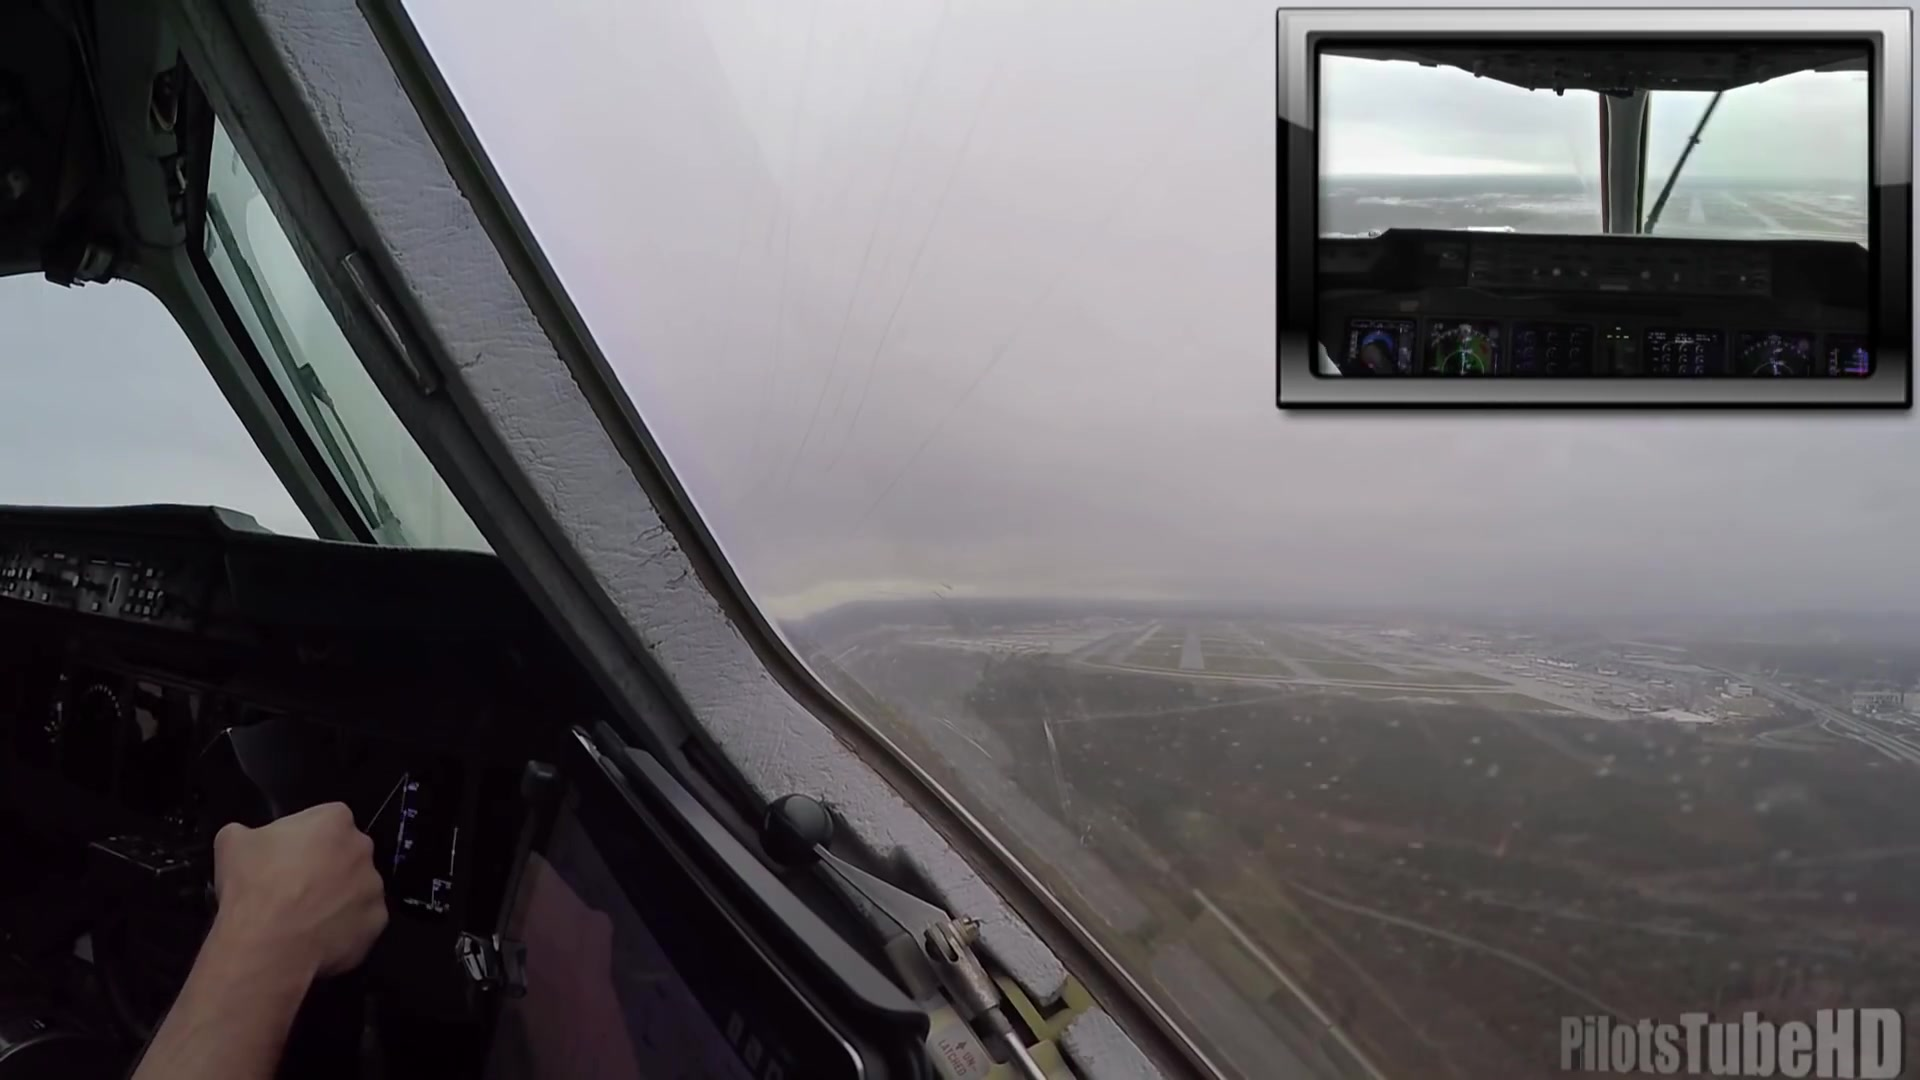runway: (1176, 630, 1204, 671)
